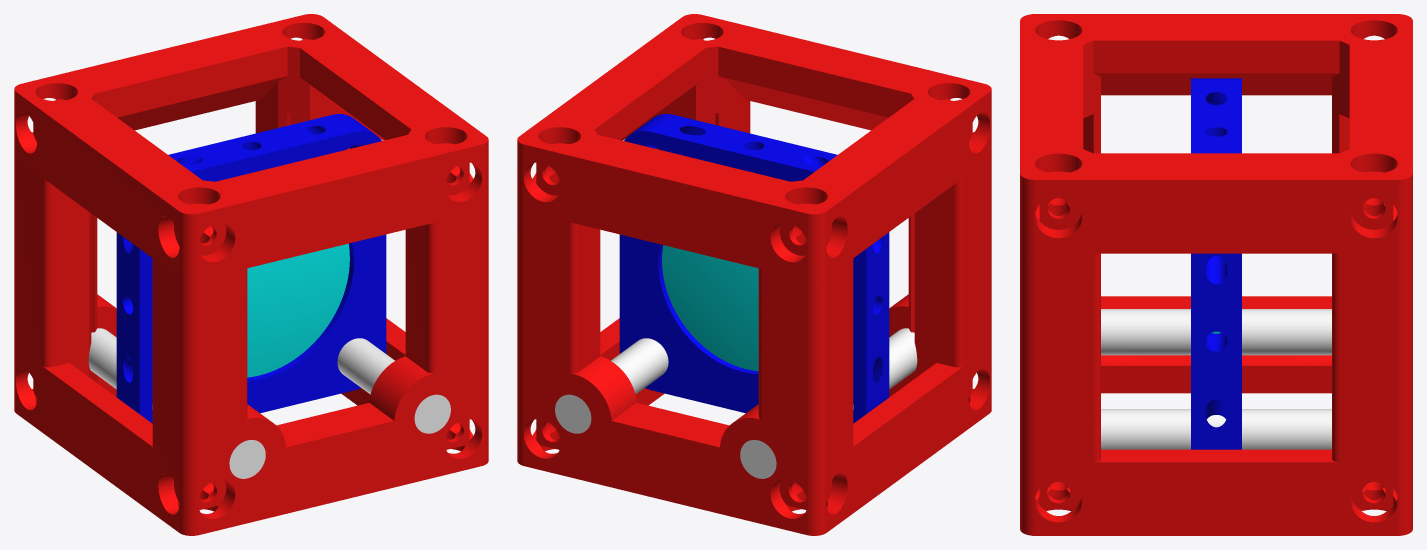
Rendered from Base Cube 1x1 (Convex Lense).fbx.
3 views of the same model, side by side, from view 1: azimuth 30°, elevation 25°; view 2: azimuth 150°, elevation 25°; view 3: azimuth 270°, elevation 25° (orthographic). The views are drawn at different scales.
Visible parts, largest first — view 1: Base Cube 1x1 (Convex Lense); view 2: Base Cube 1x1 (Convex Lense); view 3: Base Cube 1x1 (Convex Lense).
Part boxes in pixels (x1,y1,x2,y2): Base Cube 1x1 (Convex Lense): (14, 14, 488, 535); Base Cube 1x1 (Convex Lense): (517, 14, 991, 535); Base Cube 1x1 (Convex Lense): (1020, 14, 1412, 535).
Bounding box in the file's own units: 4.98 × 4.98 × 4.98.
